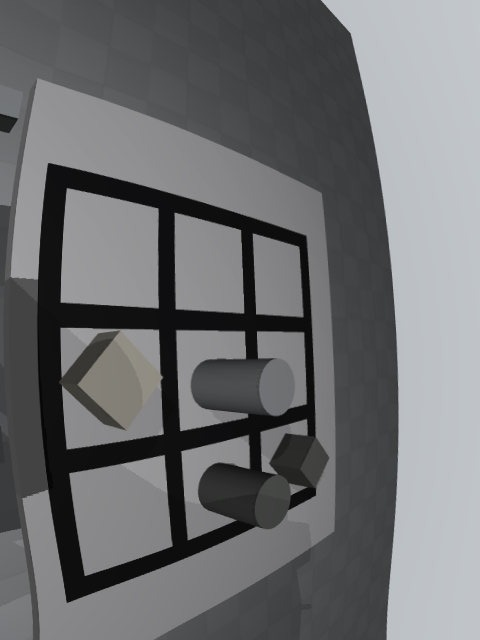can: (191, 358, 295, 417)
cube: (269, 433, 329, 488)
cylinder: (198, 462, 291, 529)
foam: (59, 331, 163, 431)
